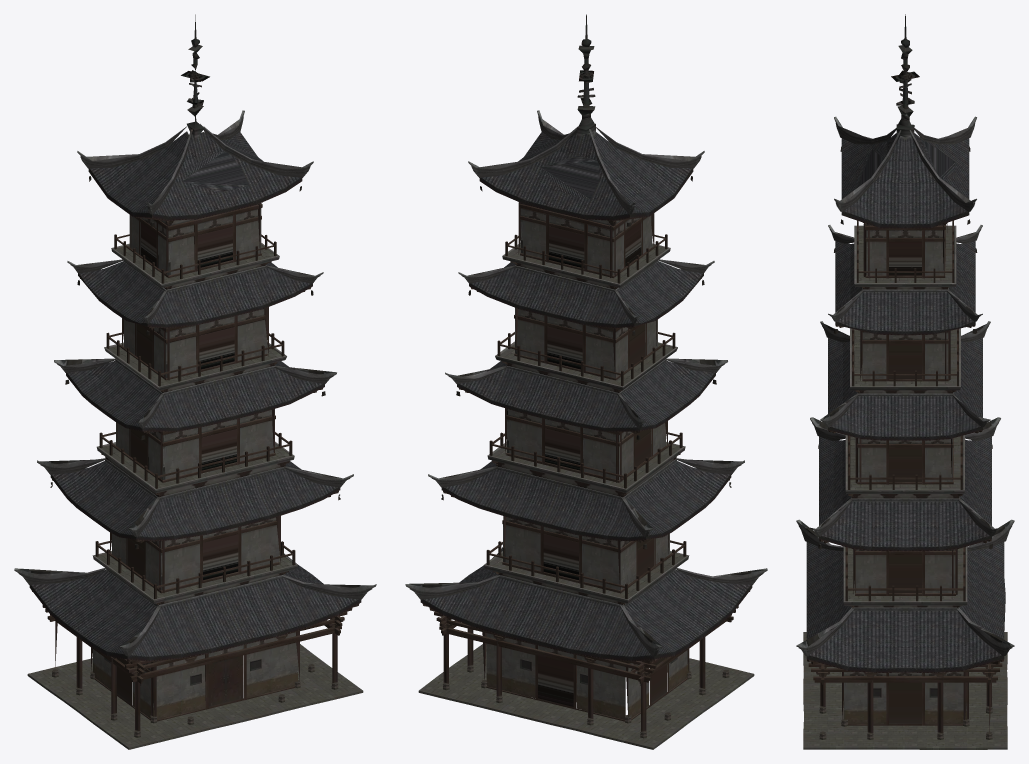
Rendered from Tower.glb.
The picture shows the model from 3 angles, left to right: view 1: azimuth 30°, elevation 25°; view 2: azimuth 150°, elevation 25°; view 3: azimuth 270°, elevation 25°; orthographic projection.
Visible parts, largest first — view 1: Obj3d66-12521026-2-364; view 2: Obj3d66-12521026-2-364; view 3: Obj3d66-12521026-2-364.
Part boxes in pixels (left/top/right/bottom): Obj3d66-12521026-2-364: left=14, top=14, right=376, bottom=749; Obj3d66-12521026-2-364: left=405, top=14, right=767, bottom=749; Obj3d66-12521026-2-364: left=796, top=14, right=1014, bottom=749.
Bounding box in the file's own units: 0.5918 × 1.47 × 0.4302.
Materials: 1 (1 with a texture image).
